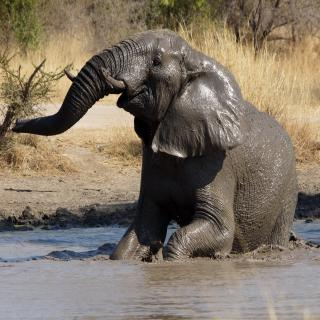Elephant: (11, 26, 302, 269)
